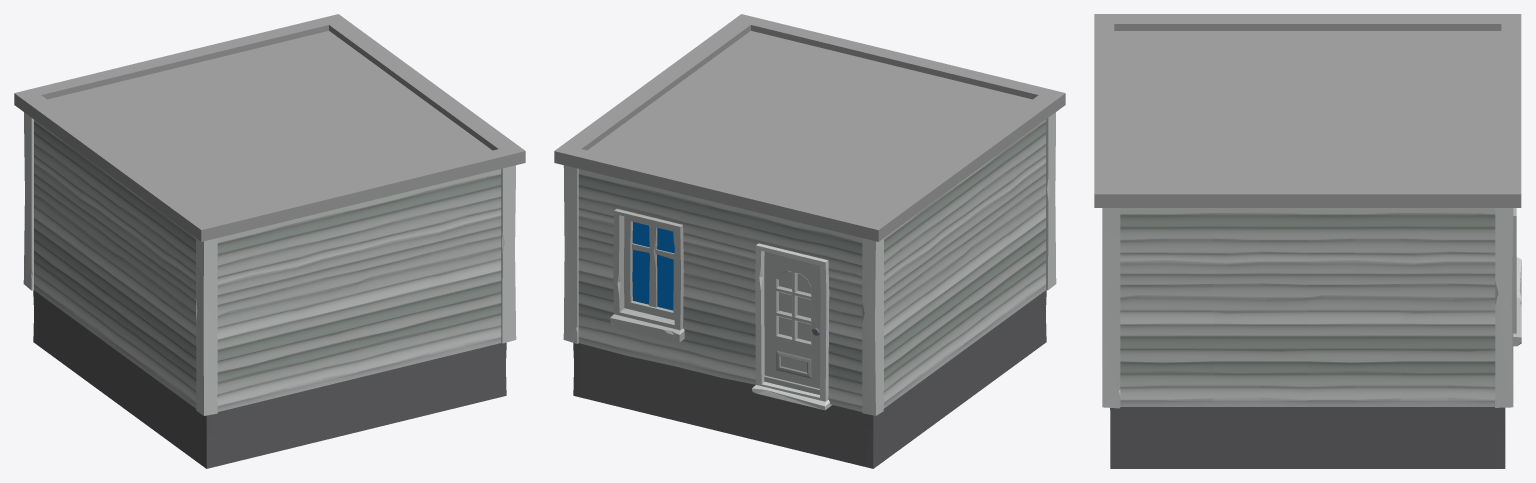
The model's file is SM_Bld_House_Preset_02.fbx.
3 views of the same model, side by side, from view 1: azimuth 30°, elevation 25°; view 2: azimuth 150°, elevation 25°; view 3: azimuth 270°, elevation 25° (orthographic). The views are drawn at different scales.
Parts seen in each view (by area): view 1: SM_Bld_House_Preset_02; view 2: SM_Bld_House_Preset_02; view 3: SM_Bld_House_Preset_02.
Part boxes in pixels (x1=…): SM_Bld_House_Preset_02: x1=14, y1=14, x2=525, y2=468; SM_Bld_House_Preset_02: x1=554, y1=14, x2=1065, y2=468; SM_Bld_House_Preset_02: x1=1094, y1=14, x2=1521, y2=468.
Bounding box in the file's own units: 569 × 414 × 570.
